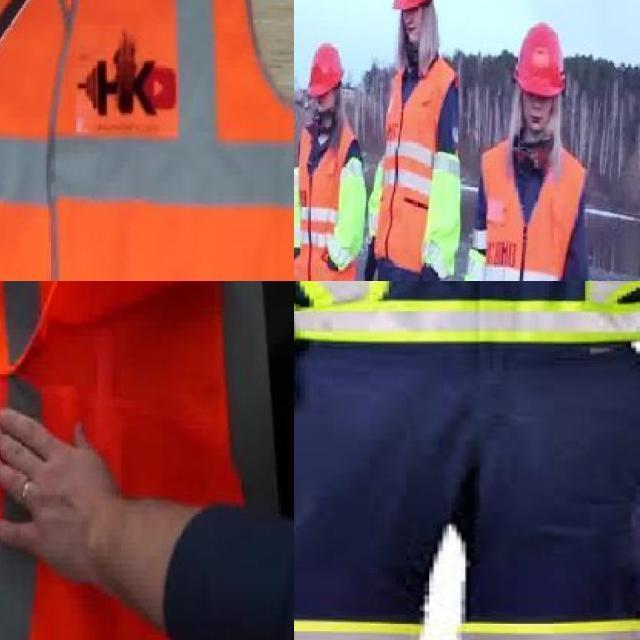apron: (365, 238, 377, 281)
